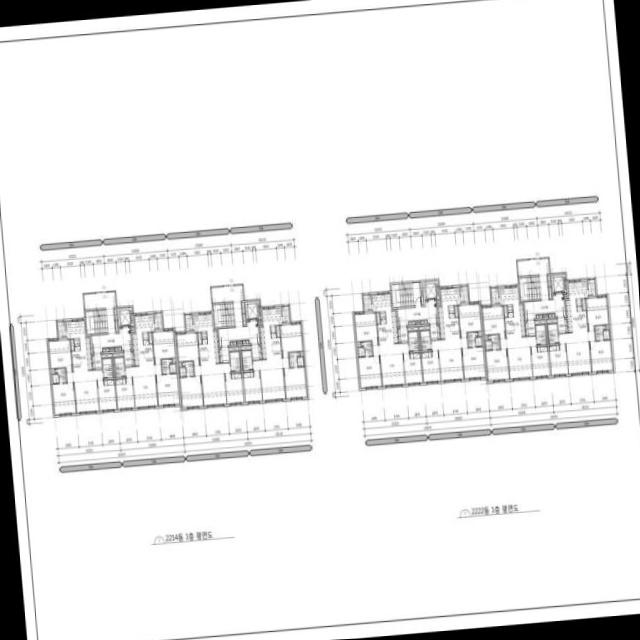background: (0, 0, 640, 640)
space_bedroom: (458, 302, 482, 337), (152, 329, 176, 364), (353, 312, 378, 345), (586, 295, 609, 330), (280, 322, 303, 357), (175, 332, 199, 365), (48, 338, 72, 371), (481, 305, 505, 338), (179, 376, 203, 408), (462, 347, 486, 379), (51, 383, 75, 415), (357, 356, 381, 388), (156, 374, 180, 406), (485, 349, 509, 381), (589, 340, 613, 372), (283, 367, 307, 399), (224, 372, 244, 404), (530, 346, 550, 377), (549, 344, 568, 376), (243, 371, 262, 403), (403, 352, 422, 384), (97, 379, 116, 411), (421, 351, 440, 382), (115, 378, 134, 409)
space_elevator: (117, 307, 133, 327), (423, 281, 439, 300), (245, 301, 260, 320), (551, 274, 566, 293)
space_elevator_hall: (211, 285, 259, 346), (517, 258, 565, 319), (84, 292, 131, 352), (397, 282, 437, 325)
space_front: (397, 327, 408, 342), (91, 354, 102, 369), (557, 317, 567, 333), (525, 320, 535, 335), (124, 351, 134, 366), (251, 344, 261, 359), (219, 347, 229, 362), (430, 324, 440, 339)
space_kitchen: (192, 312, 219, 365), (65, 319, 92, 372), (498, 286, 525, 338), (371, 292, 397, 345), (437, 286, 461, 339), (131, 313, 155, 366), (259, 306, 282, 360), (565, 280, 588, 333)
space_living_room: (66, 369, 103, 413), (252, 358, 289, 401), (125, 364, 161, 408), (372, 343, 408, 386), (194, 363, 230, 406), (431, 338, 467, 381), (558, 331, 594, 374), (500, 336, 536, 379)
space_other: (547, 275, 551, 298), (241, 302, 245, 325), (114, 309, 118, 331), (420, 282, 424, 304), (546, 318, 557, 323), (535, 319, 545, 324), (454, 305, 458, 316), (240, 345, 251, 349), (101, 353, 112, 357), (148, 332, 152, 343), (70, 339, 74, 350), (419, 325, 429, 329), (113, 352, 123, 356), (229, 346, 239, 350), (407, 326, 417, 330), (376, 312, 379, 323), (198, 332, 201, 343), (582, 299, 585, 310), (276, 326, 279, 336), (504, 306, 507, 316), (408, 321, 414, 325), (242, 340, 248, 344), (230, 341, 236, 345), (300, 351, 304, 356), (606, 324, 610, 329), (115, 347, 121, 350), (548, 314, 554, 317), (236, 341, 242, 344), (536, 315, 542, 318), (421, 320, 427, 323), (542, 314, 548, 317), (50, 369, 54, 373), (356, 342, 360, 346), (172, 358, 176, 362), (478, 331, 482, 335), (103, 348, 108, 351), (109, 348, 114, 351), (415, 321, 420, 324), (178, 362, 181, 366), (484, 335, 487, 339), (564, 294, 567, 296), (436, 301, 439, 303), (258, 321, 261, 323), (130, 328, 133, 330)
space_outdoor_room: (587, 279, 596, 296), (281, 306, 290, 323), (490, 287, 499, 304), (154, 312, 162, 329), (460, 286, 468, 303), (363, 294, 371, 311), (185, 314, 193, 331), (57, 321, 65, 338)
space_staircase: (85, 310, 108, 334), (391, 283, 414, 307), (519, 276, 541, 300), (213, 303, 235, 327)
space_toilet: (102, 358, 113, 378), (229, 351, 240, 371), (535, 324, 546, 344), (114, 357, 125, 377), (420, 330, 431, 350), (408, 331, 419, 351), (547, 323, 558, 343), (241, 350, 252, 370), (182, 361, 194, 376), (488, 334, 500, 349), (594, 325, 605, 340), (361, 341, 372, 356), (55, 368, 66, 383), (288, 352, 299, 367), (161, 359, 172, 373), (467, 332, 477, 347), (485, 340, 492, 350), (169, 363, 175, 373), (358, 347, 364, 356), (603, 330, 609, 339), (475, 337, 481, 346), (180, 367, 186, 376), (297, 357, 303, 366), (52, 374, 58, 383)
